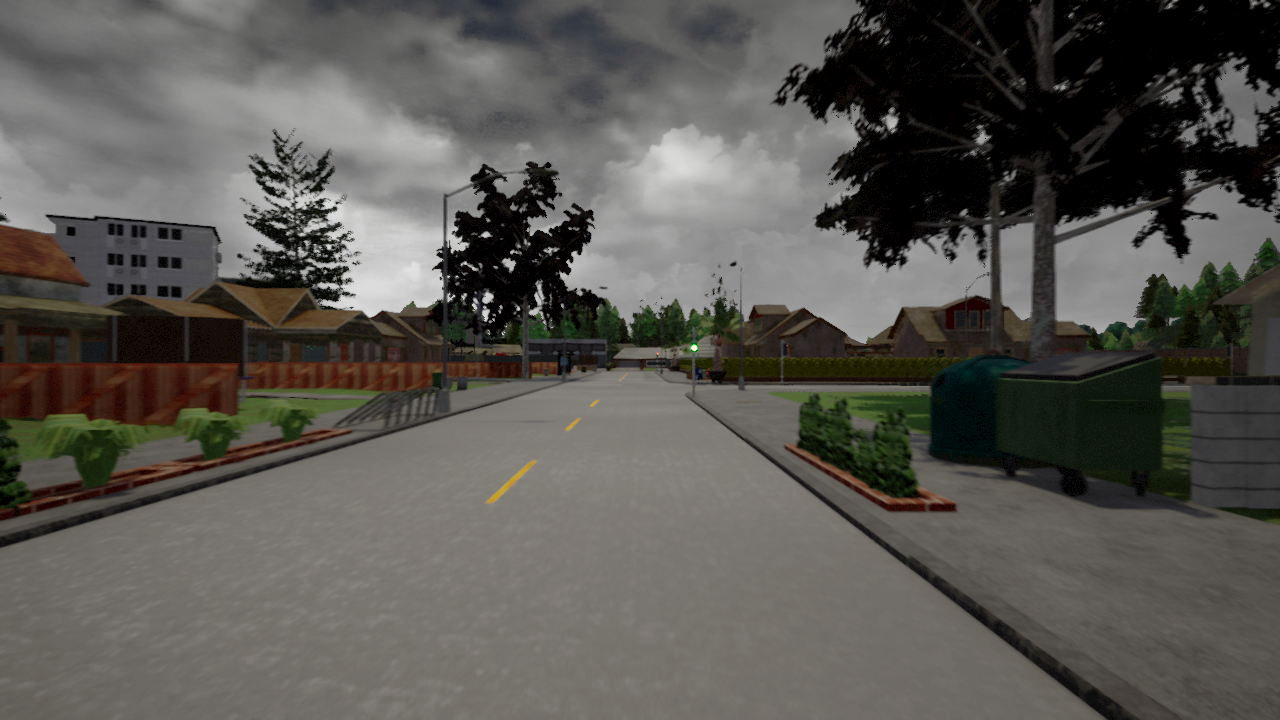green: (689, 330, 699, 352)
